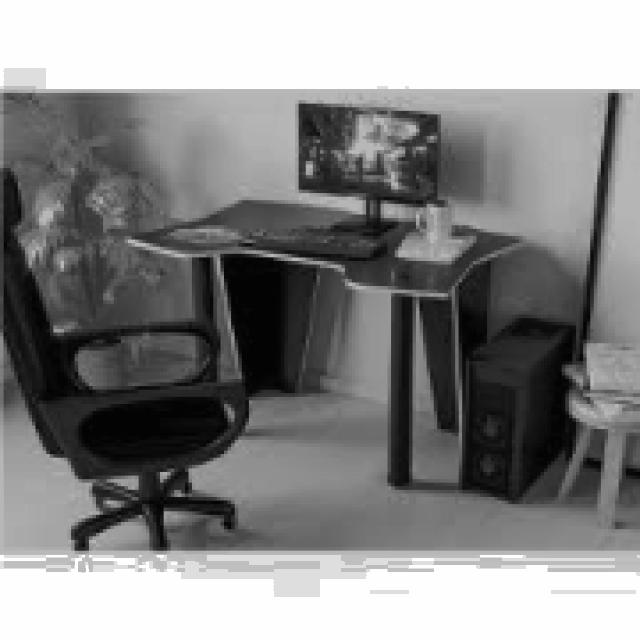book: (0, 165, 249, 547)
table: (125, 193, 522, 486)
